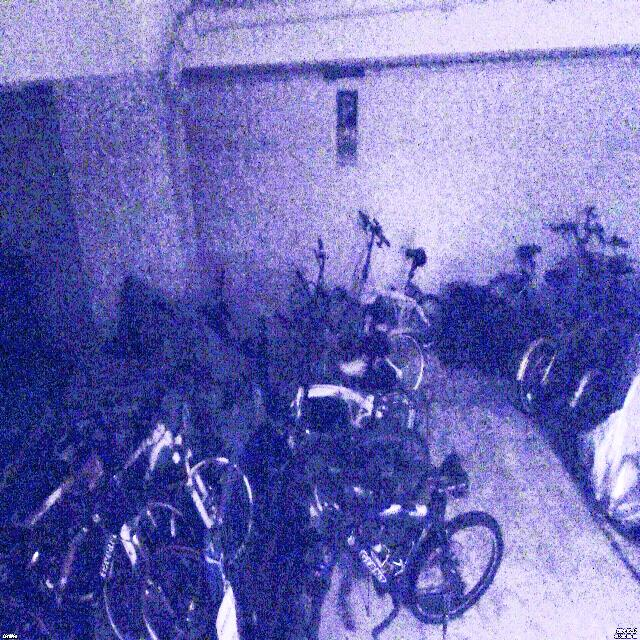bike: (285, 455, 503, 640), (34, 406, 255, 574), (293, 238, 427, 390), (332, 211, 444, 367)
